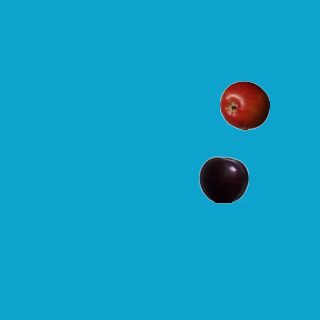Apple Braeburn: (219, 80, 269, 130)
Cherry Wax Black: (198, 154, 248, 204)
